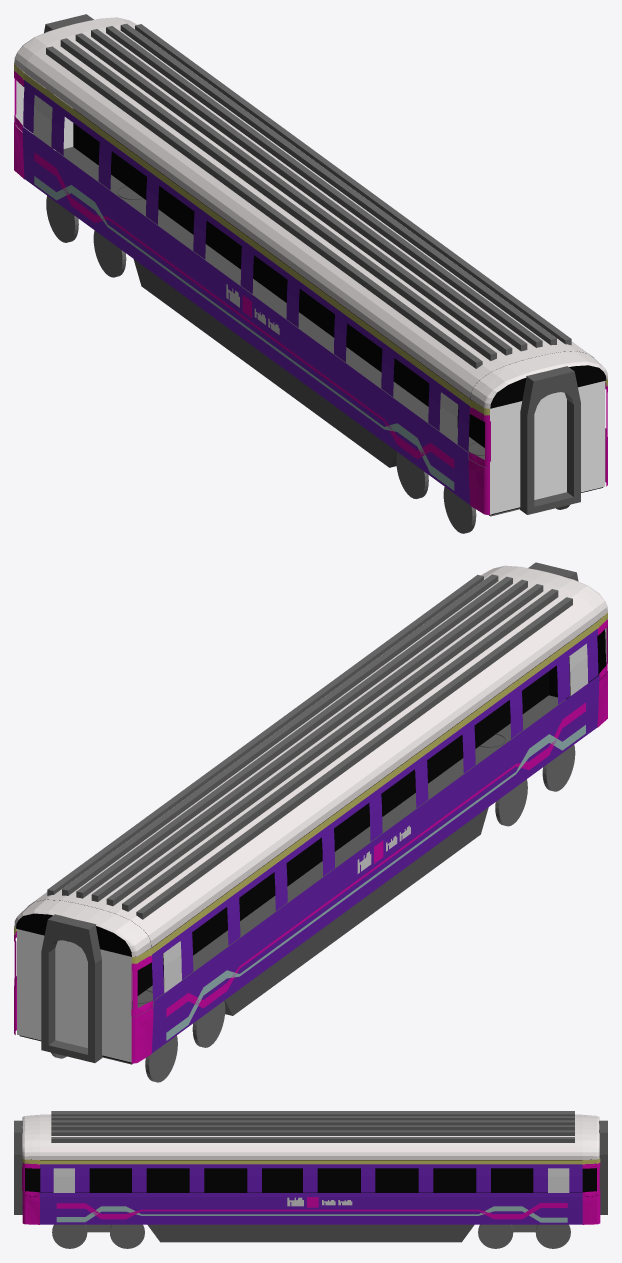
Rendered from br-mk3-fo-fgw3.dae.
3 views of the same model, one above another, from view 1: azimuth 30°, elevation 25°; view 2: azimuth 150°, elevation 25°; view 3: azimuth 270°, elevation 25° (orthographic). The views are drawn at different scales.
Visible parts, largest first — view 1: Suzanne_001, Plane_007, Plane_001, Plane_111, Cube_010, Cube, Cube_011, Cube_008, Cube_009, Cube_004, Plane_002, Cube_002 (+17 smaller); view 2: Suzanne_001, Plane_007, Plane_100, Plane_111, Cube, Cube_010, Cube_011, Cube_008, Cube_009, Cube_004, Plane_002, Cube_002 (+16 smaller); view 3: Plane_134, Suzanne_001, Plane_111, Cube, Cube_002, Cube_003, Cube_004, Cube_008, Plane_135, Plane_136, Cube_009, Cube_010 (+30 smaller).
Boxes of the visible parts, left/top/right/bottom form: Suzanne_001: left=24, top=24, right=593, bottom=398; Plane_007: left=23, top=140, right=470, bottom=504; Plane_001: left=490, top=381, right=605, bottom=514; Plane_111: left=73, top=109, right=484, bottom=447; Cube_010: left=60, top=38, right=496, bottom=360; Cube: left=133, top=259, right=396, bottom=467; Cube_011: left=46, top=46, right=482, bottom=368; Cube_008: left=91, top=29, right=527, bottom=351; Cube_009: left=75, top=33, right=512, bottom=355; Cube_004: left=106, top=26, right=542, bottom=347; Plane_002: left=56, top=147, right=489, bottom=468; Cube_002: left=120, top=23, right=556, bottom=345; Suzanne_001: left=28, top=573, right=596, bottom=947; Plane_007: left=151, top=688, right=598, bottom=1053; Plane_100: left=17, top=929, right=132, bottom=1062; Plane_111: left=135, top=657, right=548, bottom=995; Cube: left=224, top=807, right=488, bottom=1015; Cube_010: left=122, top=589, right=558, bottom=911; Cube_011: left=136, top=597, right=572, bottom=919; Cube_008: left=91, top=579, right=527, bottom=901; Cube_009: left=106, top=584, right=543, bottom=906; Cube_004: left=76, top=576, right=512, bottom=898; Plane_002: left=133, top=695, right=565, bottom=1016; Cube_002: left=62, top=574, right=498, bottom=895; Plane_134: left=40, top=1201, right=582, bottom=1224; Suzanne_001: left=40, top=1114, right=582, bottom=1159; Plane_111: left=25, top=1159, right=596, bottom=1196; Cube: left=147, top=1224, right=474, bottom=1242; Cube_002: left=51, top=1130, right=574, bottom=1135; Cube_003: left=51, top=1137, right=574, bottom=1142; Cube_004: left=51, top=1125, right=574, bottom=1130; Cube_008: left=51, top=1120, right=574, bottom=1125; Plane_135: left=40, top=1160, right=582, bottom=1164; Plane_136: left=40, top=1164, right=582, bottom=1168; Cube_009: left=51, top=1116, right=574, bottom=1120; Cube_010: left=51, top=1112, right=574, bottom=1116.
Size of the model in its own units: 2.09 by 13.39 by 2.81.
